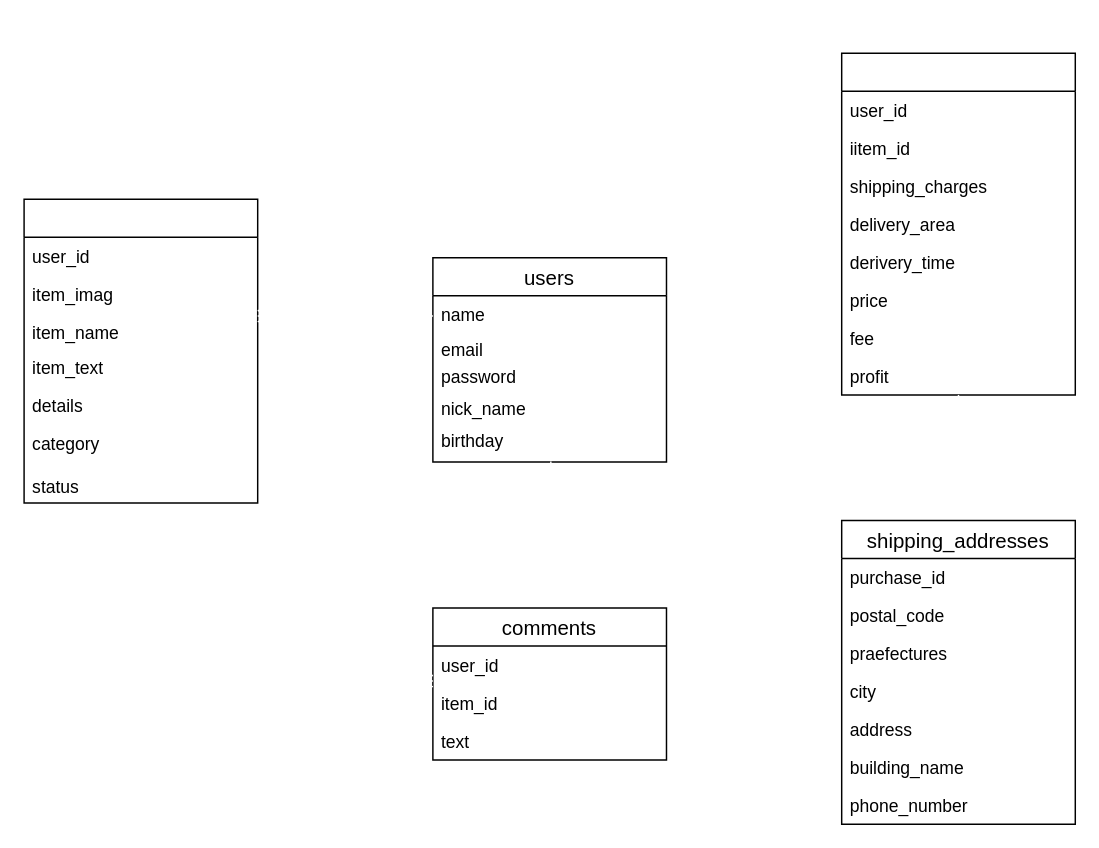
This 1099x848 diagram has some shape labels left out. Here are the shapes that lost their labels. From the top down, the box of each, then its label:
(840, 52, 1075, 395): purchase
(23, 198, 258, 503): itemas
